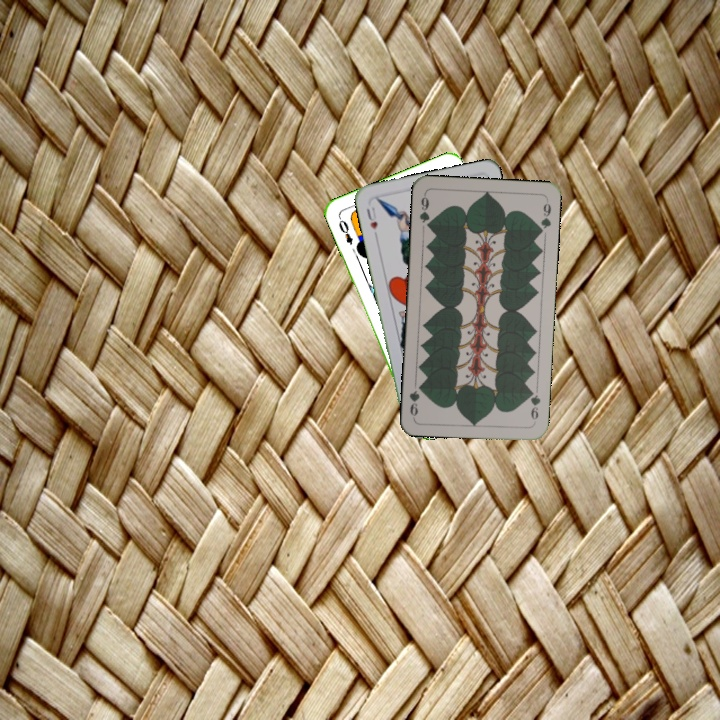EO: (334, 213, 355, 248)
G9: (415, 190, 434, 231), (526, 385, 543, 425)
HU: (362, 203, 380, 232)
